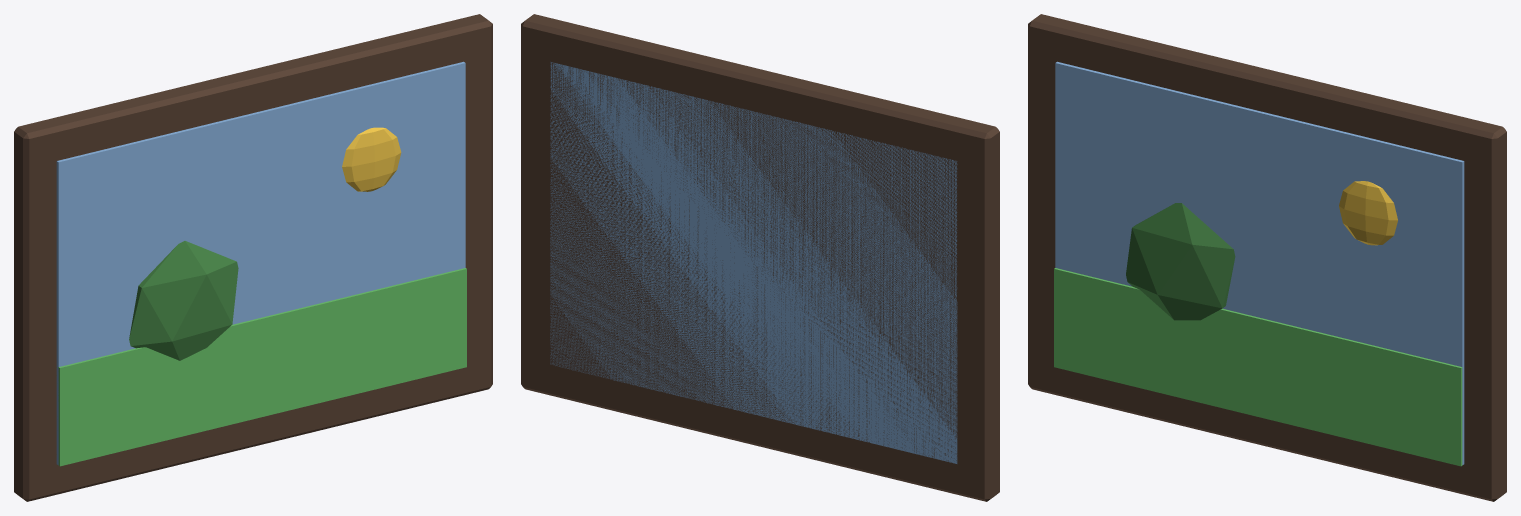
File: wall_art_landscape.fbx
The picture shows the model from 3 angles, left to right: view 1: azimuth 30°, elevation 25°; view 2: azimuth 150°, elevation 25°; view 3: azimuth 330°, elevation 25°; orthographic projection.
Parts seen in each view (by area): view 1: wall_art_landscape; view 2: wall_art_landscape; view 3: wall_art_landscape.
Boxes of the visible parts, left/top/right/bottom form: wall_art_landscape: left=14, top=14, right=492, bottom=501; wall_art_landscape: left=521, top=14, right=999, bottom=501; wall_art_landscape: left=1028, top=14, right=1506, bottom=501.
Size of the model in its own units: 0.6 by 0.45 by 0.0466.
